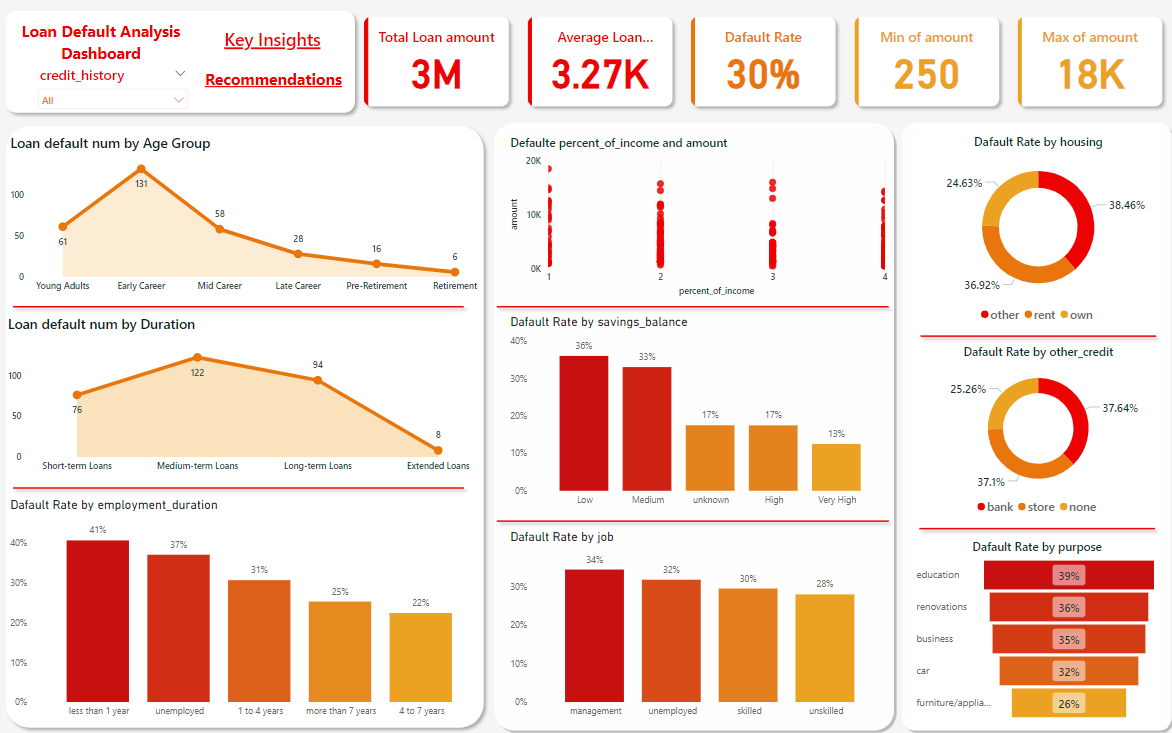

The dashboard page shown, as its layout file describes it:
{"tool":"powerbi","page":{"name":"Home","canvas":[1610,1000],"ordinal":0},"visuals":[{"type":"shape","box":[1221.1,164.7,378.7,835.6],"z":0},{"type":"shape","box":[667.5,164.7,553.7,835.6],"z":1000},{"type":"shape","box":[0,8.5,492.5,156.3],"z":2000},{"type":"textbox","box":[10.2,25.5,256.5,84.9],"z":3000},{"type":"cardVisual","fields":{"Data":["credit.Total Loan amount","credit.Average Loan amount","credit.Dafault Rate","Min(credit.amount)","Max(credit.amount)1"]},"box":[478.9,8.5,1120.9,156.3],"z":4000},{"type":"shape","box":[0,164.7,667.5,835.6],"z":5000},{"type":"areaChart","title":"Loan default num by Age Group","fields":{"Category":["credit.Age Group"],"Y":["Sum(credit.loan default num)"]},"box":[10.2,183.4,657.3,225.9],"z":6000},{"type":"areaChart","title":"Loan default num by Duration","fields":{"Category":["credit.Duration"],"Y":["Sum(credit.loan default num)"]},"box":[6.8,429.7,660.7,224.2],"z":7000},{"type":"shape","box":[10.2,409.3,630.1,20.4],"z":8000},{"type":"scatterChart","title":"Defaulte percent_of_income and amount","fields":{"Y":["credit.amount"],"X":["credit.percent_of_income"]},"box":[689.5,185.1,523.1,225.9],"z":9000},{"type":"shape","box":[10.2,653.9,630.1,23.8],"z":10000},{"type":"donutChart","fields":{"Category":["credit.housing"],"Y":["credit.Dafault Rate"]},"box":[1243.2,183.4,338,266.6],"z":11000},{"type":"columnChart","fields":{"Category":["credit.employment_duration"],"Y":["credit.Dafault Rate"]},"box":[10.2,677.7,657.3,309.1],"z":12000},{"type":"shape","box":[1241.5,711.6,338,18.7],"z":13000},{"type":"shape","box":[667.5,409.3,550.3,20.4],"z":14000},{"type":"columnChart","fields":{"Category":["credit.savings_balance"],"Y":["credit.Dafault Rate"]},"box":[689.5,429.7,523.1,270],"z":15000},{"type":"shape","box":[667.5,699.7,550.3,22.1],"z":16000},{"type":"columnChart","fields":{"Category":["credit.job"],"Y":["credit.Dafault Rate"]},"box":[689.5,721.8,523.1,264.9],"z":17000},{"type":"funnel","fields":{"Category":["credit.purpose"],"Y":["credit.Dafault Rate"]},"box":[1241.5,733.7,338,253.1],"z":18000},{"type":"shape","box":[1243.2,450.1,338,18.7],"z":19000},{"type":"donutChart","fields":{"Category":["credit.other_credit"],"Y":["credit.Dafault Rate"]},"box":[1243.2,468.8,338,242.9],"z":20000},{"type":"slicer","fields":{"Values":["credit.credit_history"]},"box":[42.5,86.6,224.2,64.5],"z":21000},{"type":"pageNavigator","box":[266.6,25.5,212.3,125.7],"z":24000}]}

Visuals, with their boxes in screenshot pixels (x1, y1, x2, y2), scaled from the page's 1610x1000 canvas onto the 1172x733 screenshot:
shape: [889, 121, 1165, 732]
shape: [486, 121, 889, 732]
shape: [0, 6, 359, 121]
textbox: [7, 19, 194, 81]
cardVisual - credit.Total Loan amount x credit.Average Loan amount: [349, 6, 1165, 121]
shape: [0, 121, 486, 732]
"Loan default num by Age Group" areaChart: [7, 134, 486, 300]
"Loan default num by Duration" areaChart: [5, 315, 486, 479]
shape: [7, 300, 466, 315]
"Defaulte percent_of_income and amount" scatterChart: [502, 136, 883, 301]
shape: [7, 479, 466, 497]
donutChart - credit.housing x credit.Dafault Rate: [905, 134, 1151, 330]
columnChart - credit.employment_duration x credit.Dafault Rate: [7, 497, 486, 723]
shape: [904, 522, 1150, 535]
shape: [486, 300, 886, 315]
columnChart - credit.savings_balance x credit.Dafault Rate: [502, 315, 883, 513]
shape: [486, 513, 886, 529]
columnChart - credit.job x credit.Dafault Rate: [502, 529, 883, 723]
funnel - credit.purpose x credit.Dafault Rate: [904, 538, 1150, 723]
shape: [905, 330, 1151, 344]
donutChart - credit.other_credit x credit.Dafault Rate: [905, 344, 1151, 522]
slicer - credit.credit_history: [31, 63, 194, 111]
pageNavigator: [194, 19, 349, 111]
